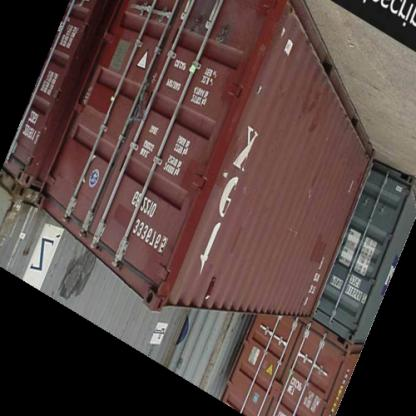Damage: (254, 78, 276, 106), (184, 7, 206, 32), (280, 226, 306, 244), (300, 186, 320, 204), (218, 172, 234, 186)
